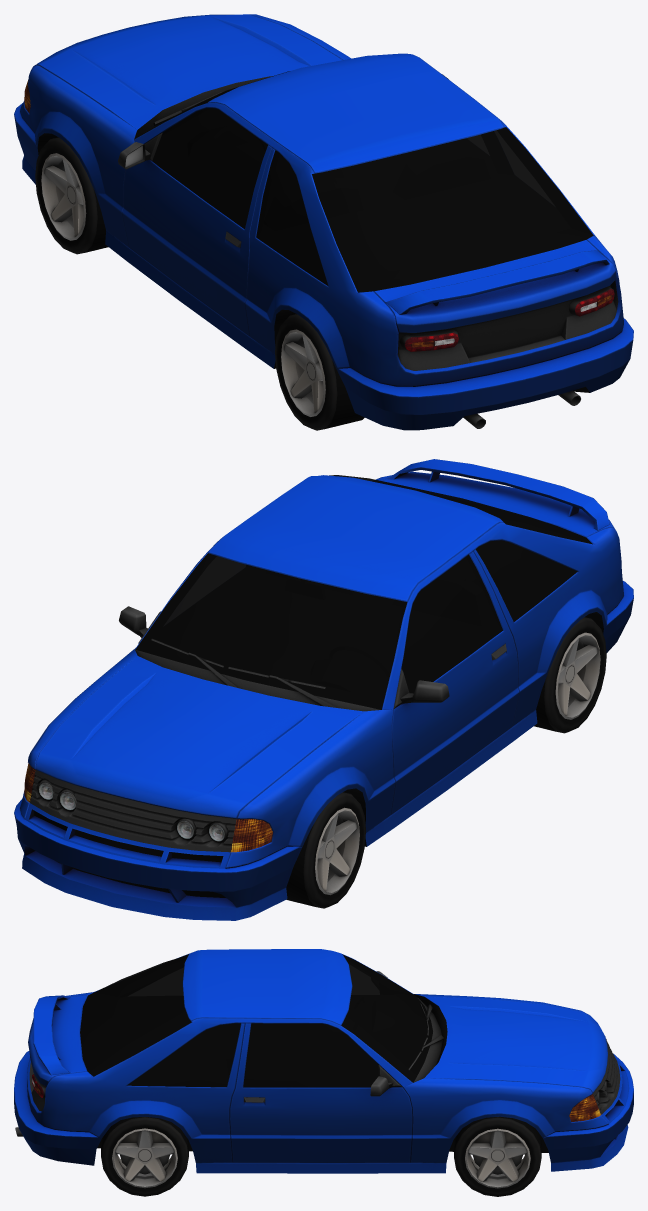
Rendered from coupe.glb.
3 views of the same model, one above another, from view 1: azimuth 30°, elevation 25°; view 2: azimuth 150°, elevation 25°; view 3: azimuth 270°, elevation 25° (orthographic). The views are drawn at different scales.
Parts seen in each view (by area): view 1: Body, Wheel_RL, Wheel_FL; view 2: Body, Wheel_FL, Wheel_RL; view 3: Body, Wheel_FR, Wheel_RR.
Part boxes in pixels (x1=…): Body: x1=14, y1=14, x2=633, y2=430; Wheel_RL: x1=275, y1=314, x2=364, y2=430; Wheel_FL: x1=35, y1=137, x2=108, y2=254; Body: x1=14, y1=459, x2=633, y2=920; Wheel_FL: x1=286, y1=792, x2=365, y2=908; Wheel_RL: x1=534, y1=617, x2=606, y2=733; Body: x1=14, y1=949, x2=633, y2=1173; Wheel_FR: x1=454, y1=1116, x2=541, y2=1196; Wheel_RR: x1=101, y1=1117, x2=188, y2=1196.
Bounding box in the file's own units: 1.88 × 1.28 × 4.24.
Materials: 4 (3 with a texture image).
